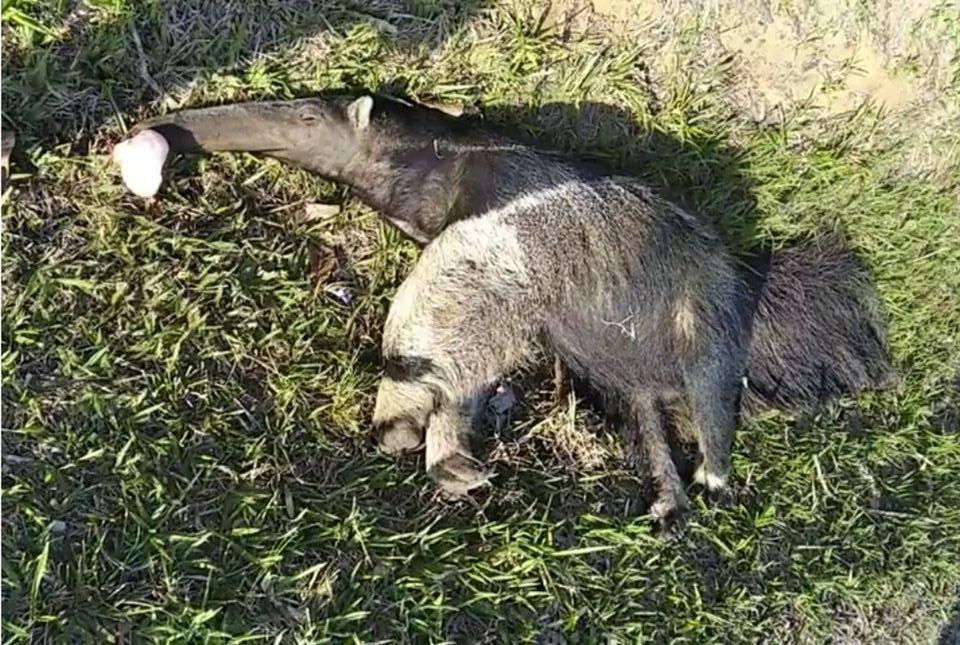TamanduaBandeira: (115, 90, 875, 527)
